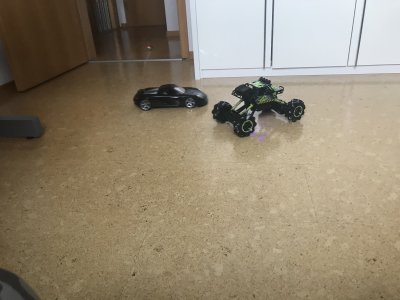remote control car: (210, 75, 309, 138)
